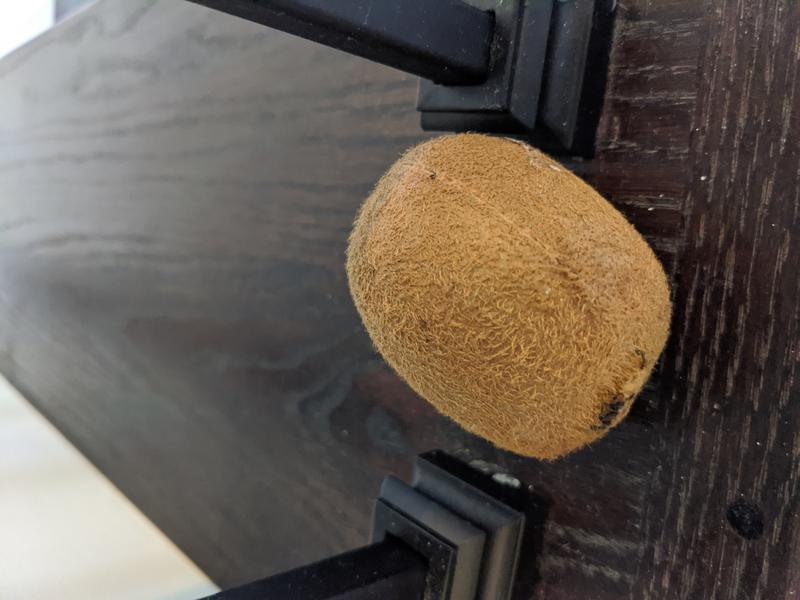kiwi: (343, 134, 674, 461)
